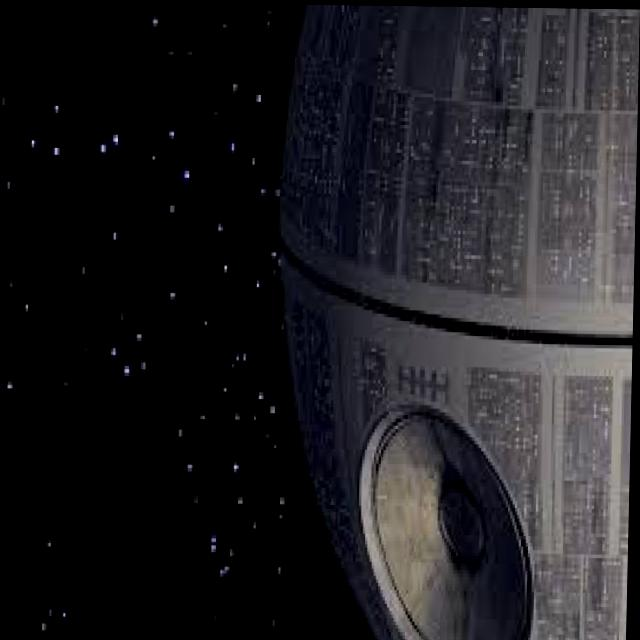deathStar: (273, 22, 640, 640)
